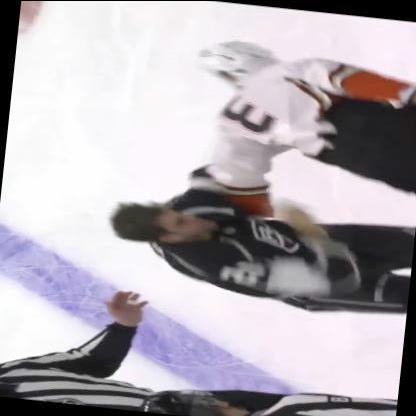voilence: (100, 25, 415, 321)
